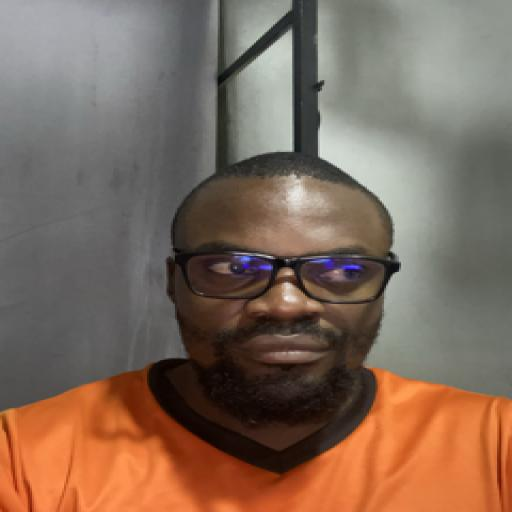JEANLUC: (166, 142, 412, 430)
